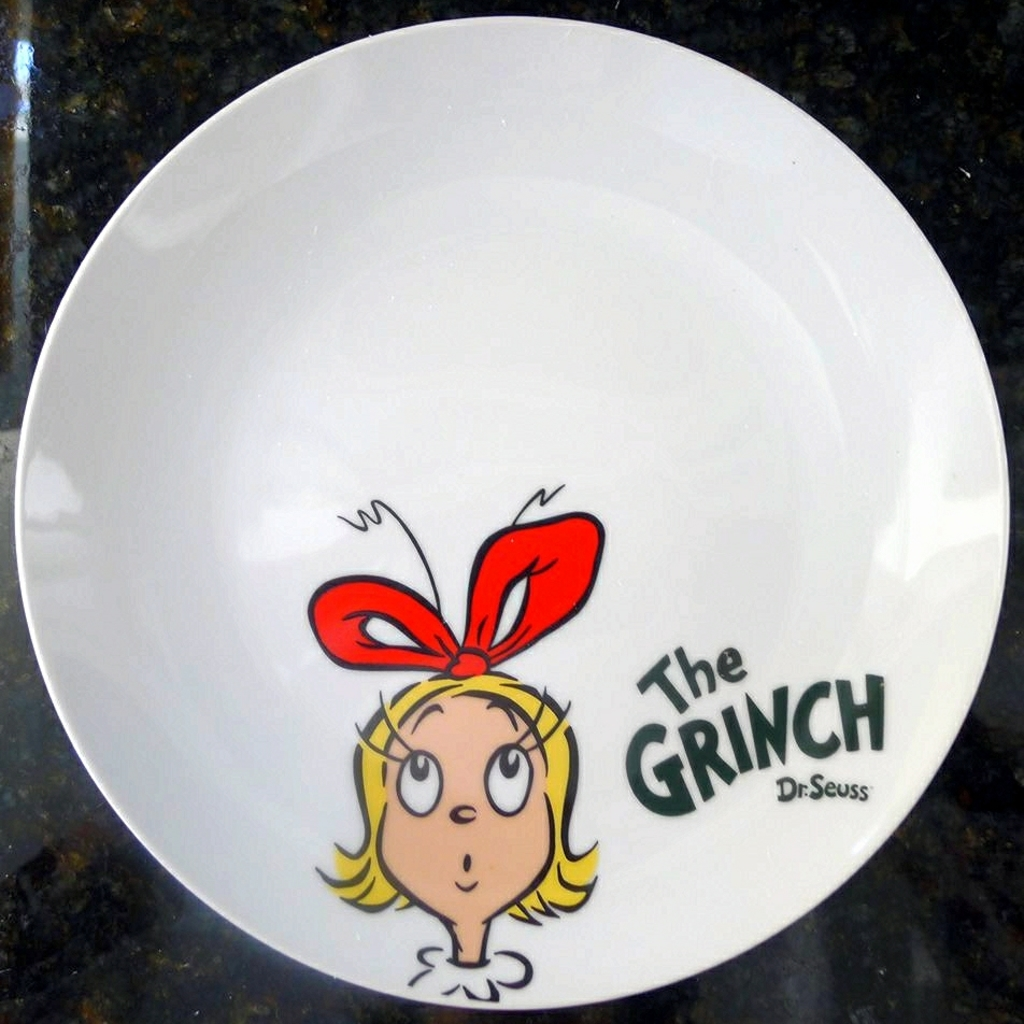plate: (12, 12, 1008, 1013)
